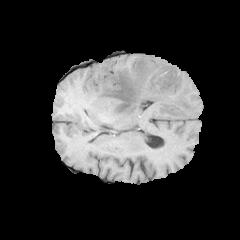glioma: (96, 55, 197, 116)
